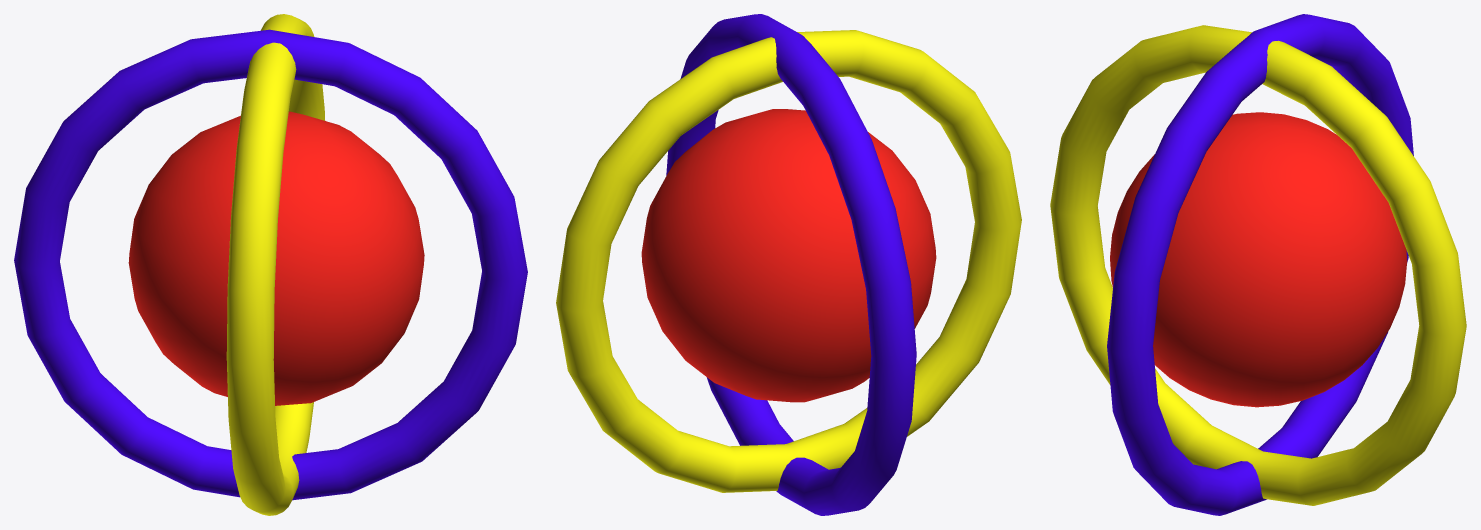
The model's file is herculesBullet.fbx.
The picture shows the model from 3 angles, left to right: view 1: azimuth 30°, elevation 25°; view 2: azimuth 150°, elevation 25°; view 3: azimuth 270°, elevation 25°; orthographic projection.
Parts seen in each view (by area): view 1: polySurface21; view 2: polySurface21; view 3: polySurface21.
Part boxes in pixels (box(x1,y1,x2,y2)): polySurface21: box(14, 14, 527, 515); polySurface21: box(556, 14, 1021, 515); polySurface21: box(1050, 14, 1466, 515).
Size of the model in its own units: 9.46 by 11.21 by 9.03.
Materials: 3 (3 with a texture image).
